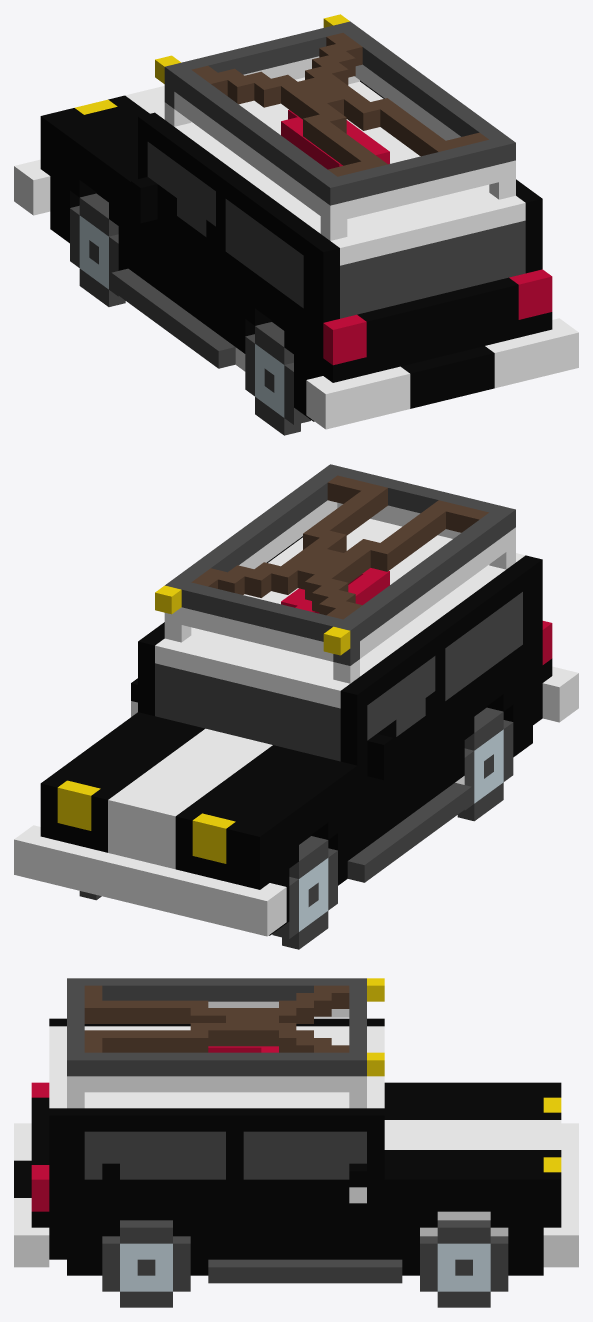
File: car_12.glb
The picture shows the model from 3 angles, top to bottom: view 1: azimuth 30°, elevation 25°; view 2: azimuth 150°, elevation 25°; view 3: azimuth 270°, elevation 25°; orthographic projection. The views are drawn at different scales.
Visible parts, largest first — view 1: ObjObject.008; view 2: ObjObject.008; view 3: ObjObject.008.
Part boxes in pixels (<box>): ObjObject.008: <box>14,14,578,435</box>; ObjObject.008: <box>14,464,578,949</box>; ObjObject.008: <box>14,978,578,1307</box>.
Size of the model in its own units: 1.5 by 1.5 by 3.2.
1 material, 1 textured.
